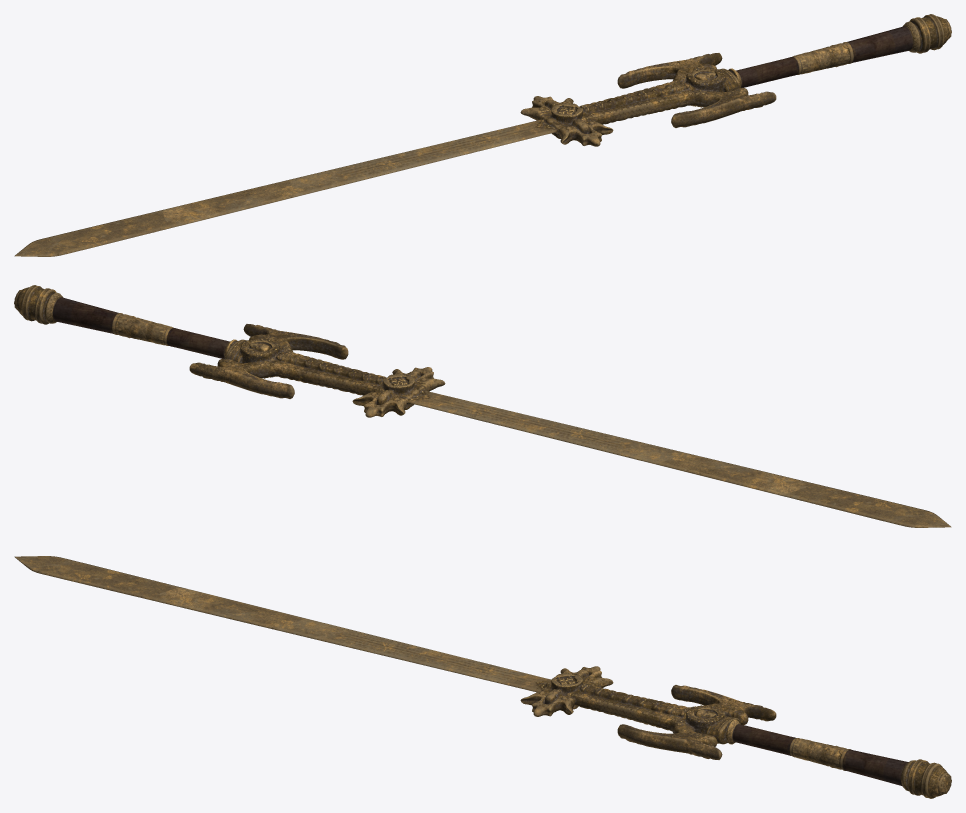
File: mc-sword.glb
3 views of the same model, one above another, from view 1: azimuth 30°, elevation 25°; view 2: azimuth 150°, elevation 25°; view 3: azimuth 330°, elevation 25° (orthographic).
Visible parts, largest first — view 1: Gold Greatsword Weathered; view 2: Gold Greatsword Weathered; view 3: Gold Greatsword Weathered.
Boxes of the visible parts, <box> form: Gold Greatsword Weathered: <box>14,14,951,256</box>; Gold Greatsword Weathered: <box>14,285,951,527</box>; Gold Greatsword Weathered: <box>14,556,951,798</box>.
Size of the model in its own units: 1.79 by 0.0601 by 0.2117.
1 material, 1 textured.
